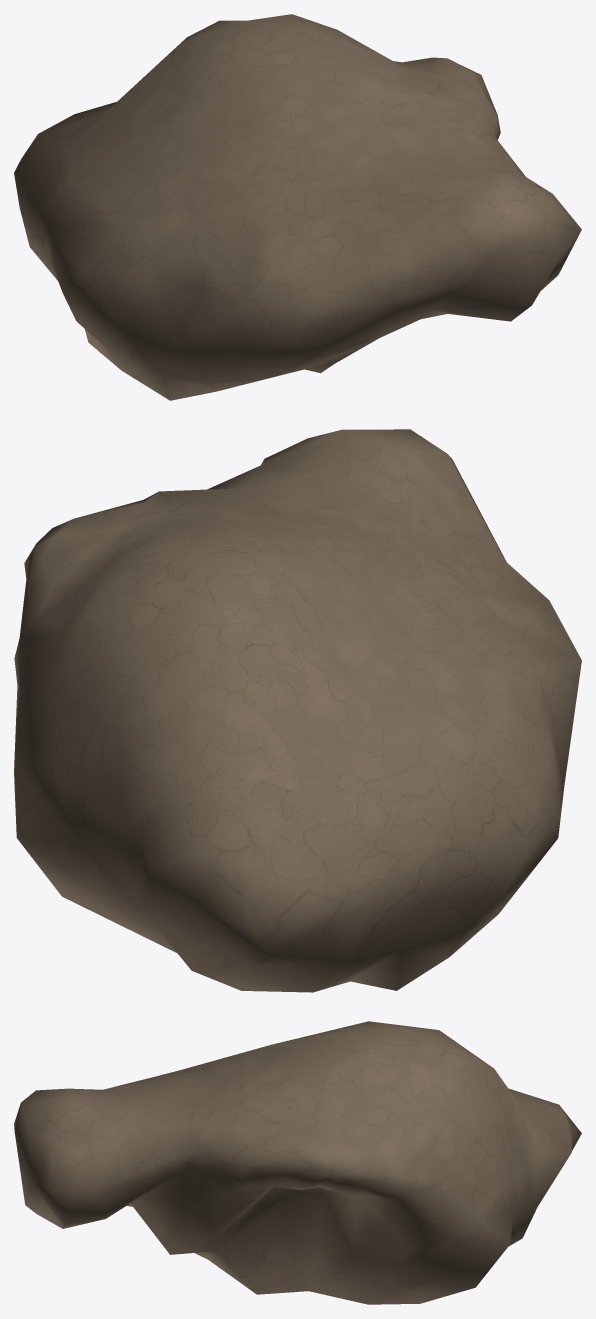
The model's file is rock_f.fbx.
3 renders of one model, top to bottom at view 1: azimuth 30°, elevation 25°; view 2: azimuth 150°, elevation 25°; view 3: azimuth 270°, elevation 25°, orthographic. The views are drawn at different scales.
Visible parts, largest first — view 1: Cube; view 2: Cube; view 3: Cube.
Part boxes in pixels (x1,y1,x2,y2): Cube: (14,14,581,400); Cube: (14,429,581,992); Cube: (14,1021,581,1304).
Bounding box in the file's own units: 9.52 × 6.65 × 12.8.
